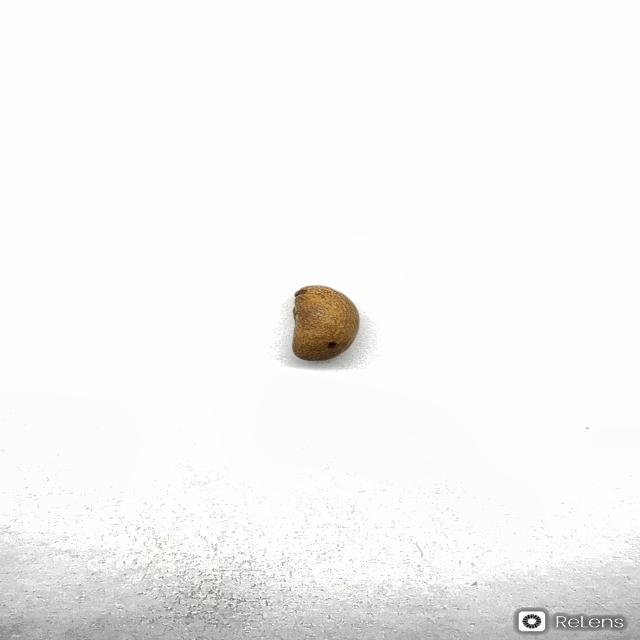Insect damage: (291, 284, 360, 361)
